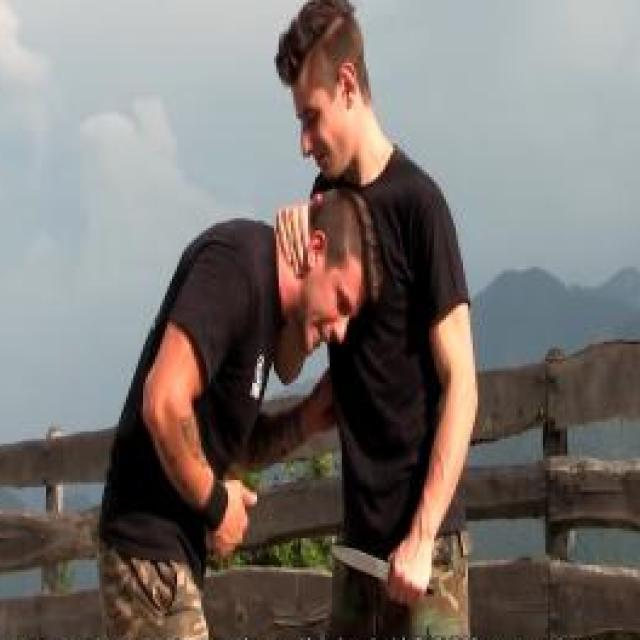knife: (326, 531, 439, 613)
